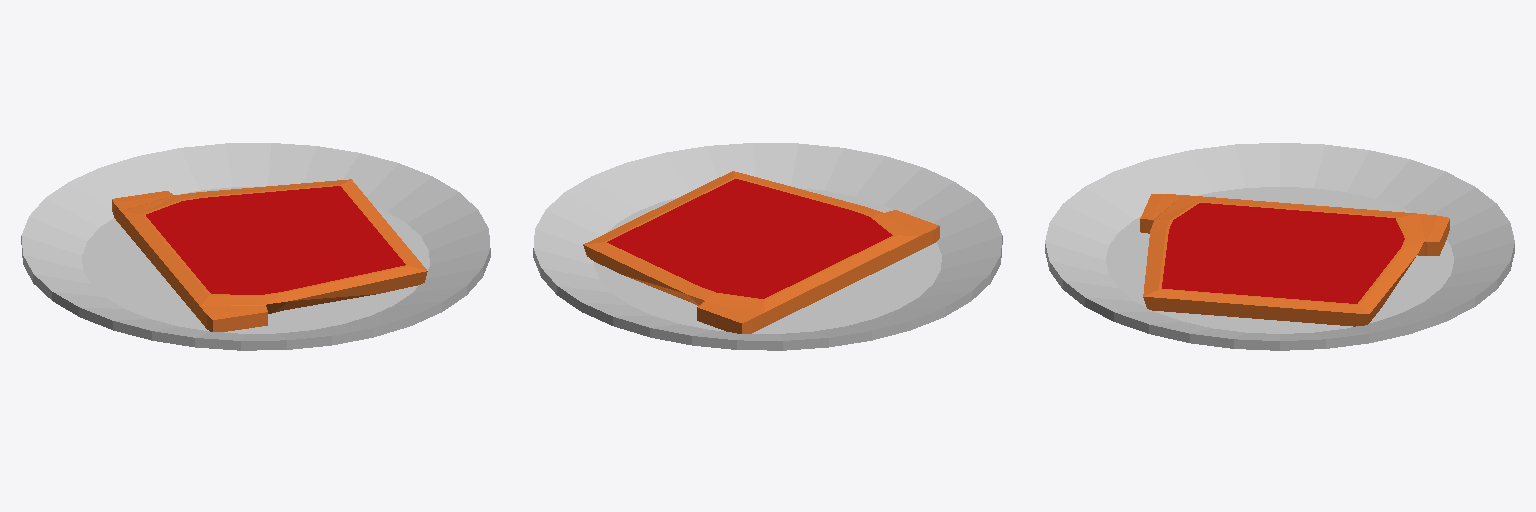
Rendered from jamToast.obj.
3 views of the same model, side by side, from view 1: azimuth 30°, elevation 25°; view 2: azimuth 150°, elevation 25°; view 3: azimuth 270°, elevation 25° (orthographic).
Visible parts, largest first — view 1: JamToast_Cylinder.005; view 2: JamToast_Cylinder.005; view 3: JamToast_Cylinder.005.
Boxes of the visible parts, x1,y1,x2,y2 form: JamToast_Cylinder.005: [21, 143, 490, 350]; JamToast_Cylinder.005: [533, 143, 1002, 350]; JamToast_Cylinder.005: [1045, 143, 1514, 350].
Bounding box in the file's own units: 0.1617 × 0.0107 × 0.1617.